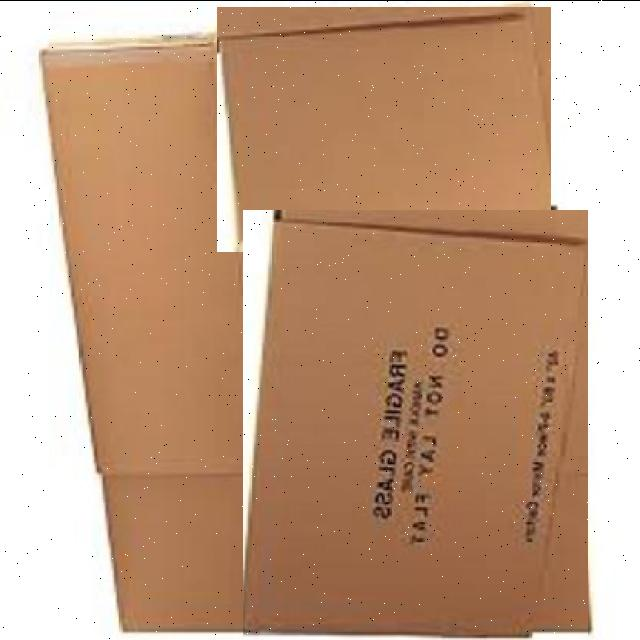normal: (243, 209, 588, 640), (217, 6, 551, 251)
